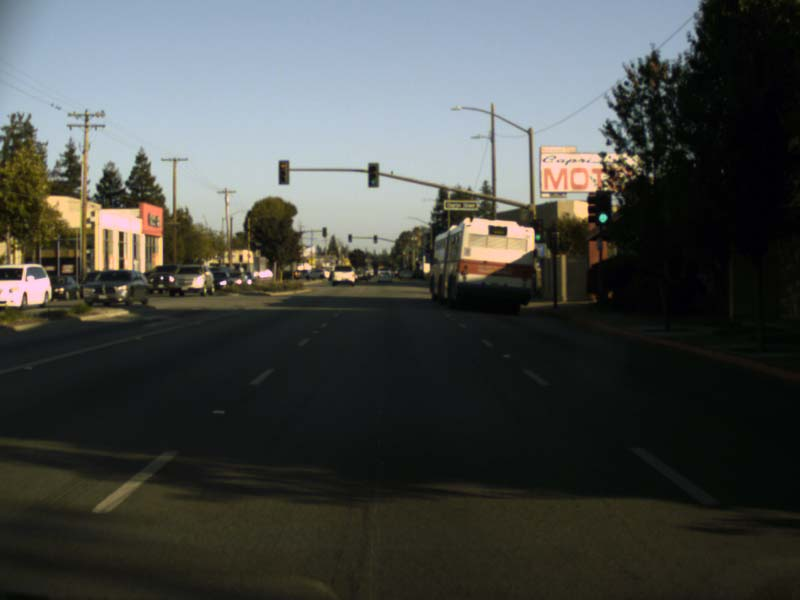Green: (598, 192, 610, 223), (368, 162, 378, 186), (533, 219, 542, 241)
Red: (278, 160, 288, 184)
